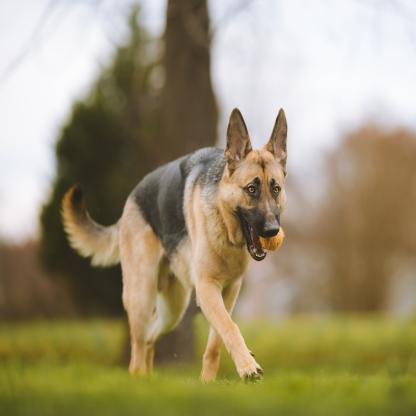dog: (69, 104, 290, 384)
